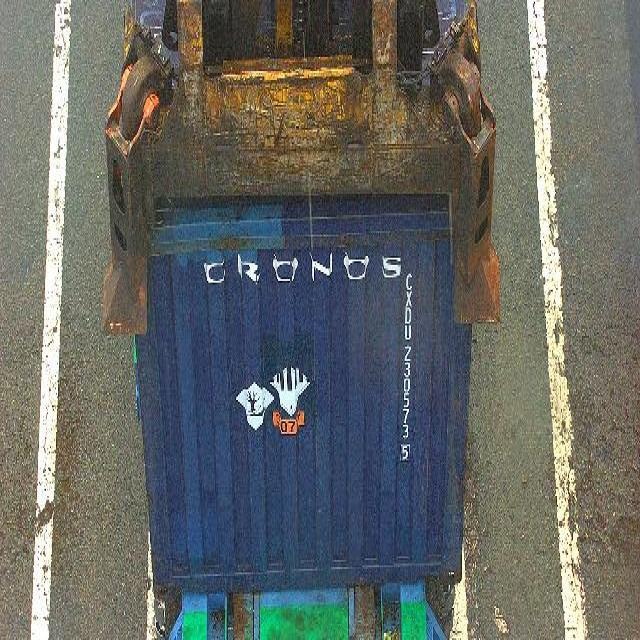container_number: (399, 270, 417, 470)
